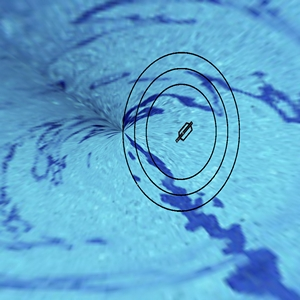circle: (115, 33, 246, 228)
submarine: (170, 110, 197, 152)
